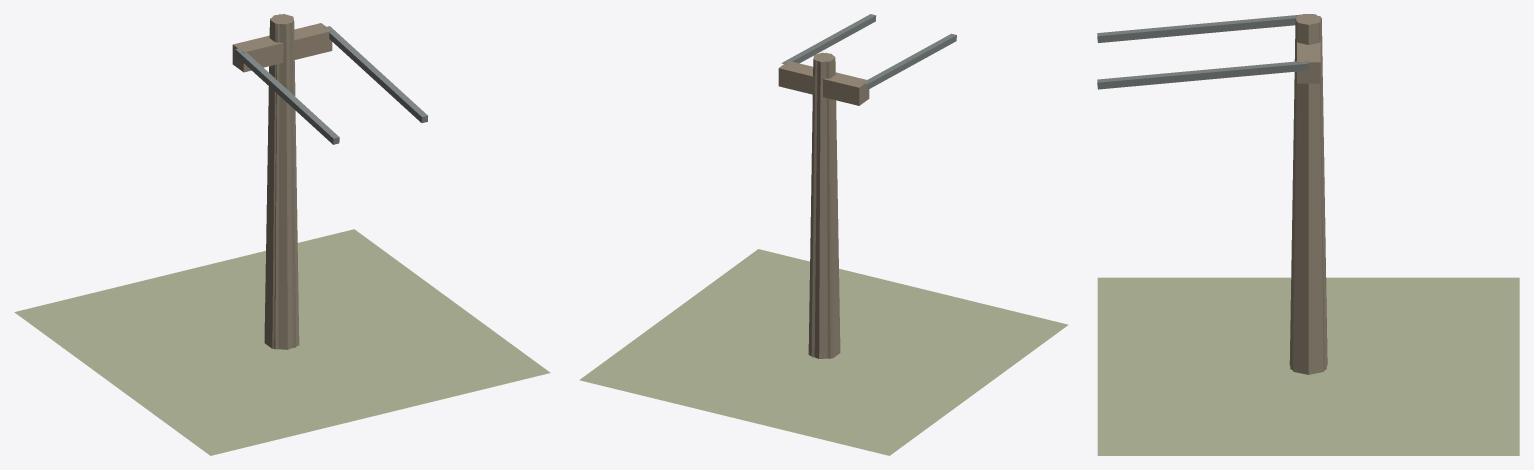
3 renders of one model, left to right at view 1: azimuth 30°, elevation 25°; view 2: azimuth 150°, elevation 25°; view 3: azimuth 270°, elevation 25°, orthographic. The views are drawn at different scales.
Visible parts, largest first — view 1: Near, Far; view 2: Near, Far; view 3: Near, Far.
Part boxes in pixels (<box>): Near: <box>14,14,550,455</box>; Far: <box>270,14,296,349</box>; Near: <box>579,14,1068,455</box>; Far: <box>811,52,834,358</box>; Near: <box>1097,14,1519,455</box>; Far: <box>1290,14,1326,369</box>.
Size of the model in its own units: 1 by 0.91 by 1.
